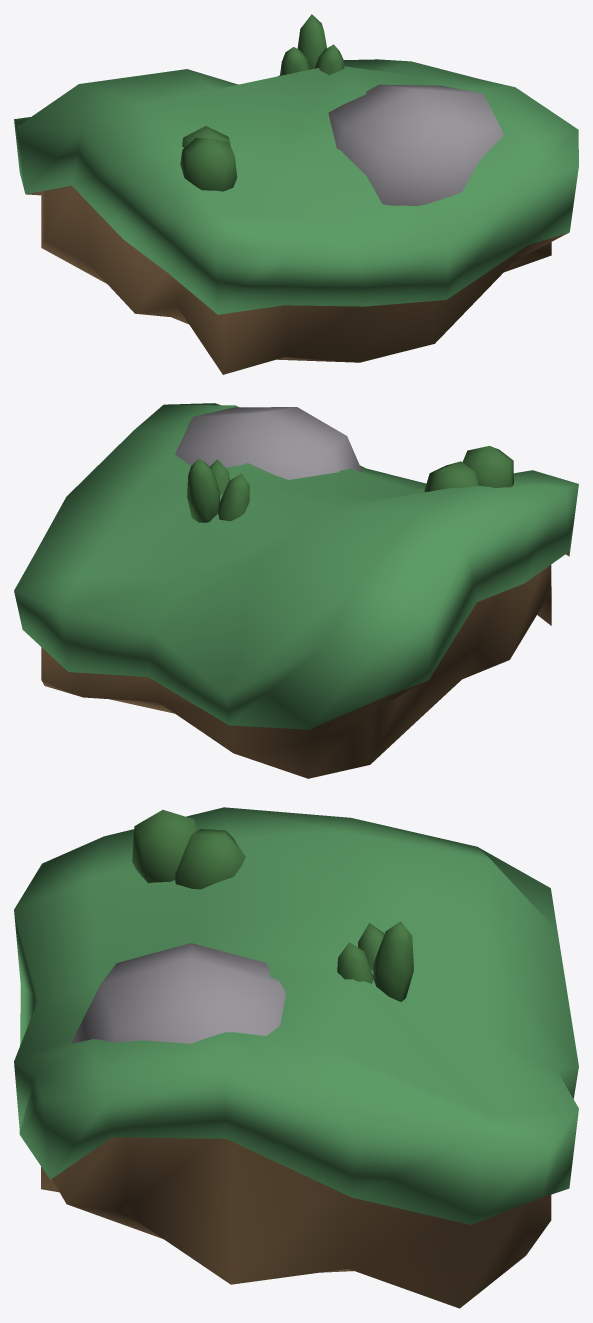
Rendered from island01.fbx.
3 views of the same model, one above another, from view 1: azimuth 30°, elevation 25°; view 2: azimuth 150°, elevation 25°; view 3: azimuth 270°, elevation 25° (orthographic). The views are drawn at different scales.
Parts seen in each view (by area): view 1: island01; view 2: island01; view 3: island01.
Part boxes in pixels (x1,y1,x2,y2): island01: (14,14,578,374); island01: (14,403,578,778); island01: (14,807,578,1308).
Bounding box in the file's own units: 5542 × 3613 × 5163.
